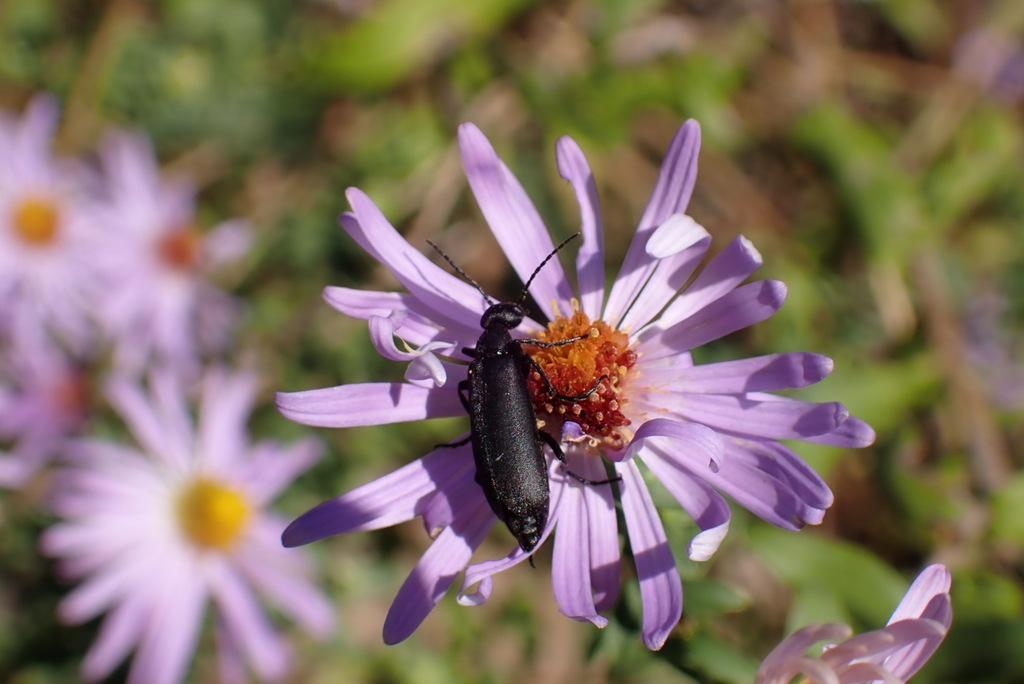blister_beetle: (369, 206, 693, 599)
